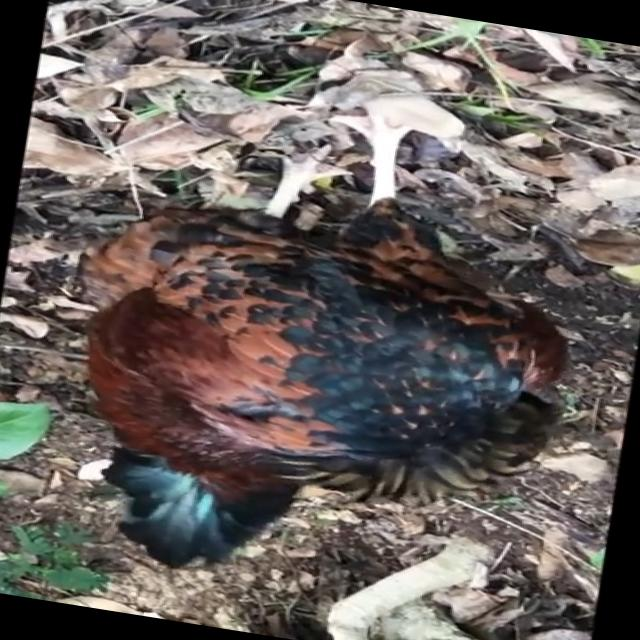self preening: (25, 54, 601, 640)
